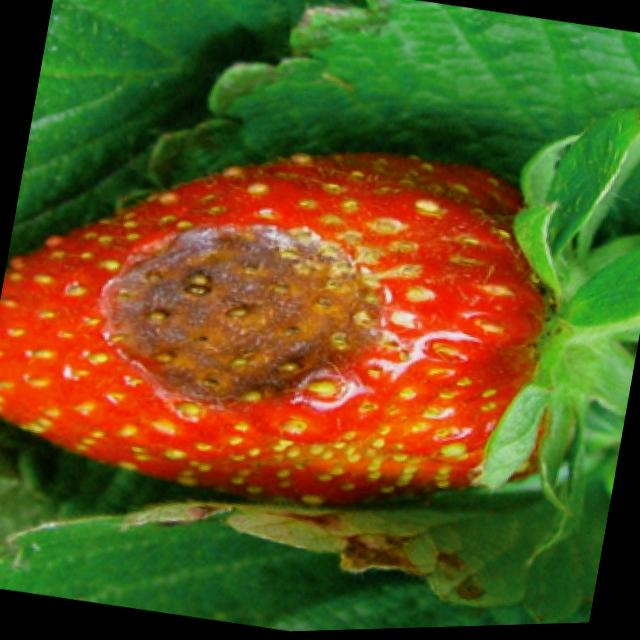Anthracnose Fruit Rot: (82, 199, 399, 434)
